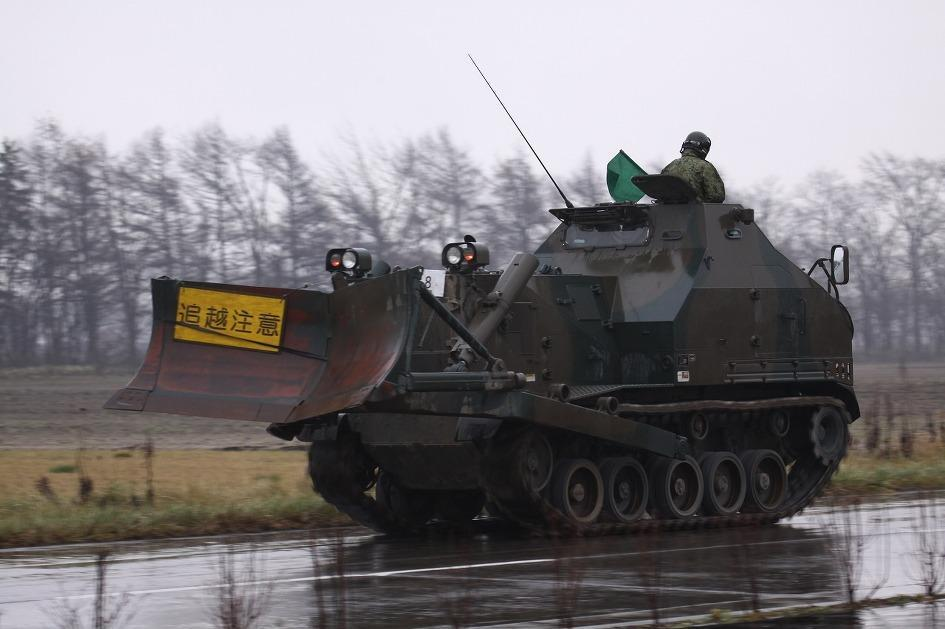MIL_IFV: (108, 176, 864, 538)
